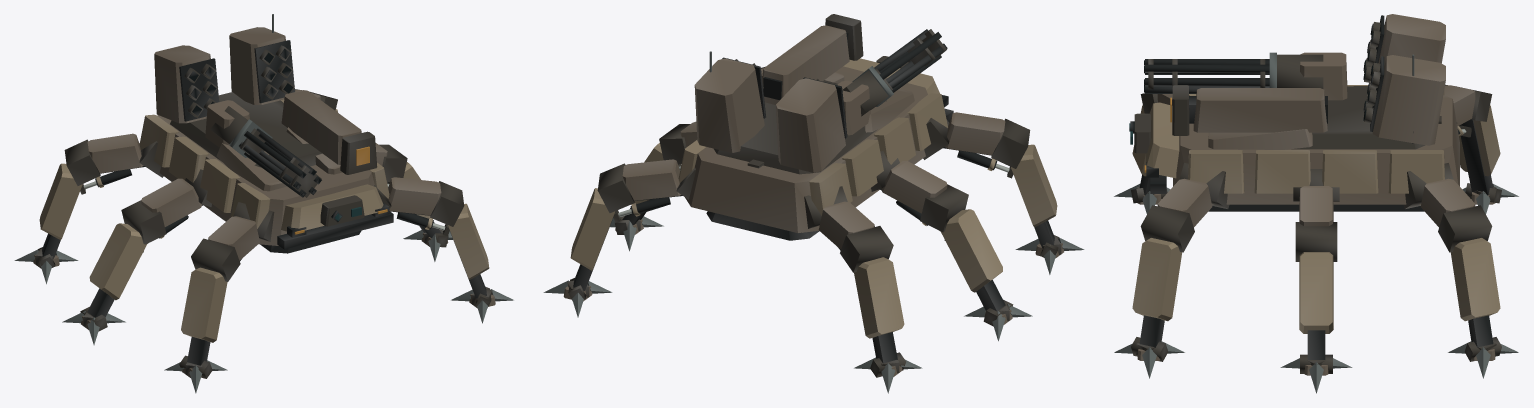
File: mx06_d1_lod2.meshopt.glb
The picture shows the model from 3 angles, left to right: view 1: azimuth 30°, elevation 25°; view 2: azimuth 150°, elevation 25°; view 3: azimuth 270°, elevation 25°; orthographic projection. The views are drawn at different scales.
Parts seen in each view (by area): view 1: MX06_STATIC; view 2: MX06_STATIC; view 3: MX06_STATIC.
Boxes of the visible parts, x1,y1,x2,y2 form: MX06_STATIC: (14,14,513,393); MX06_STATIC: (543,14,1084,393); MX06_STATIC: (1114,14,1518,393).
Size of the model in its own units: 6.74 by 3.8 by 5.45.
